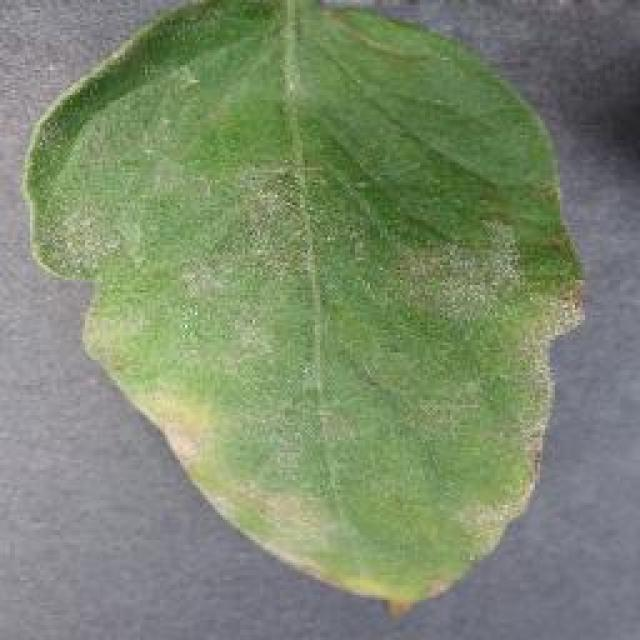Tomato Late Blight: (60, 124, 565, 584)
